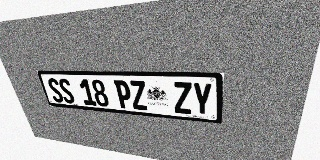1: (77, 79, 97, 106)
8: (90, 79, 110, 107)
P: (113, 80, 133, 109)
S: (57, 78, 76, 104), (46, 78, 65, 103)
Y: (192, 82, 212, 116)
Z: (173, 82, 192, 114), (129, 80, 148, 110)
